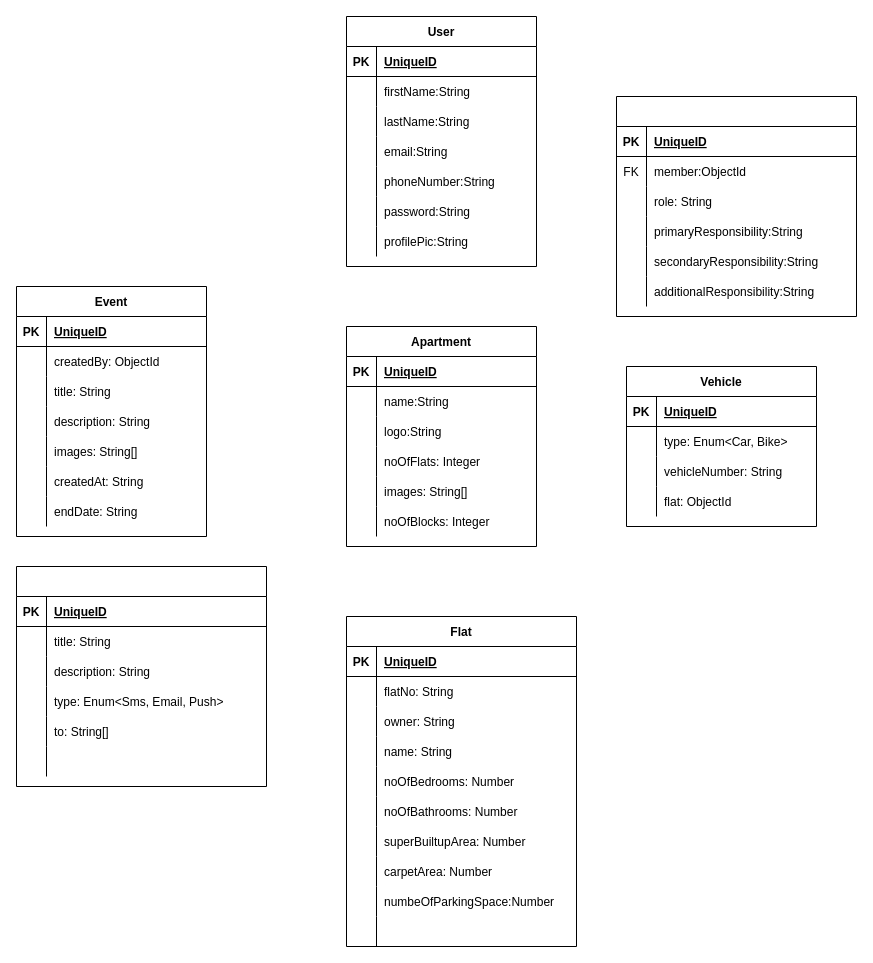
Image size: 873x963. Some labels were removed from this diagram. The shapes that lost their labels are listed below. From the top down, each one's box as (x1, y1, x2, y2) in pixels, then its label:
(616, 96, 856, 316): CommitteeMember
(16, 566, 266, 786): Notification
